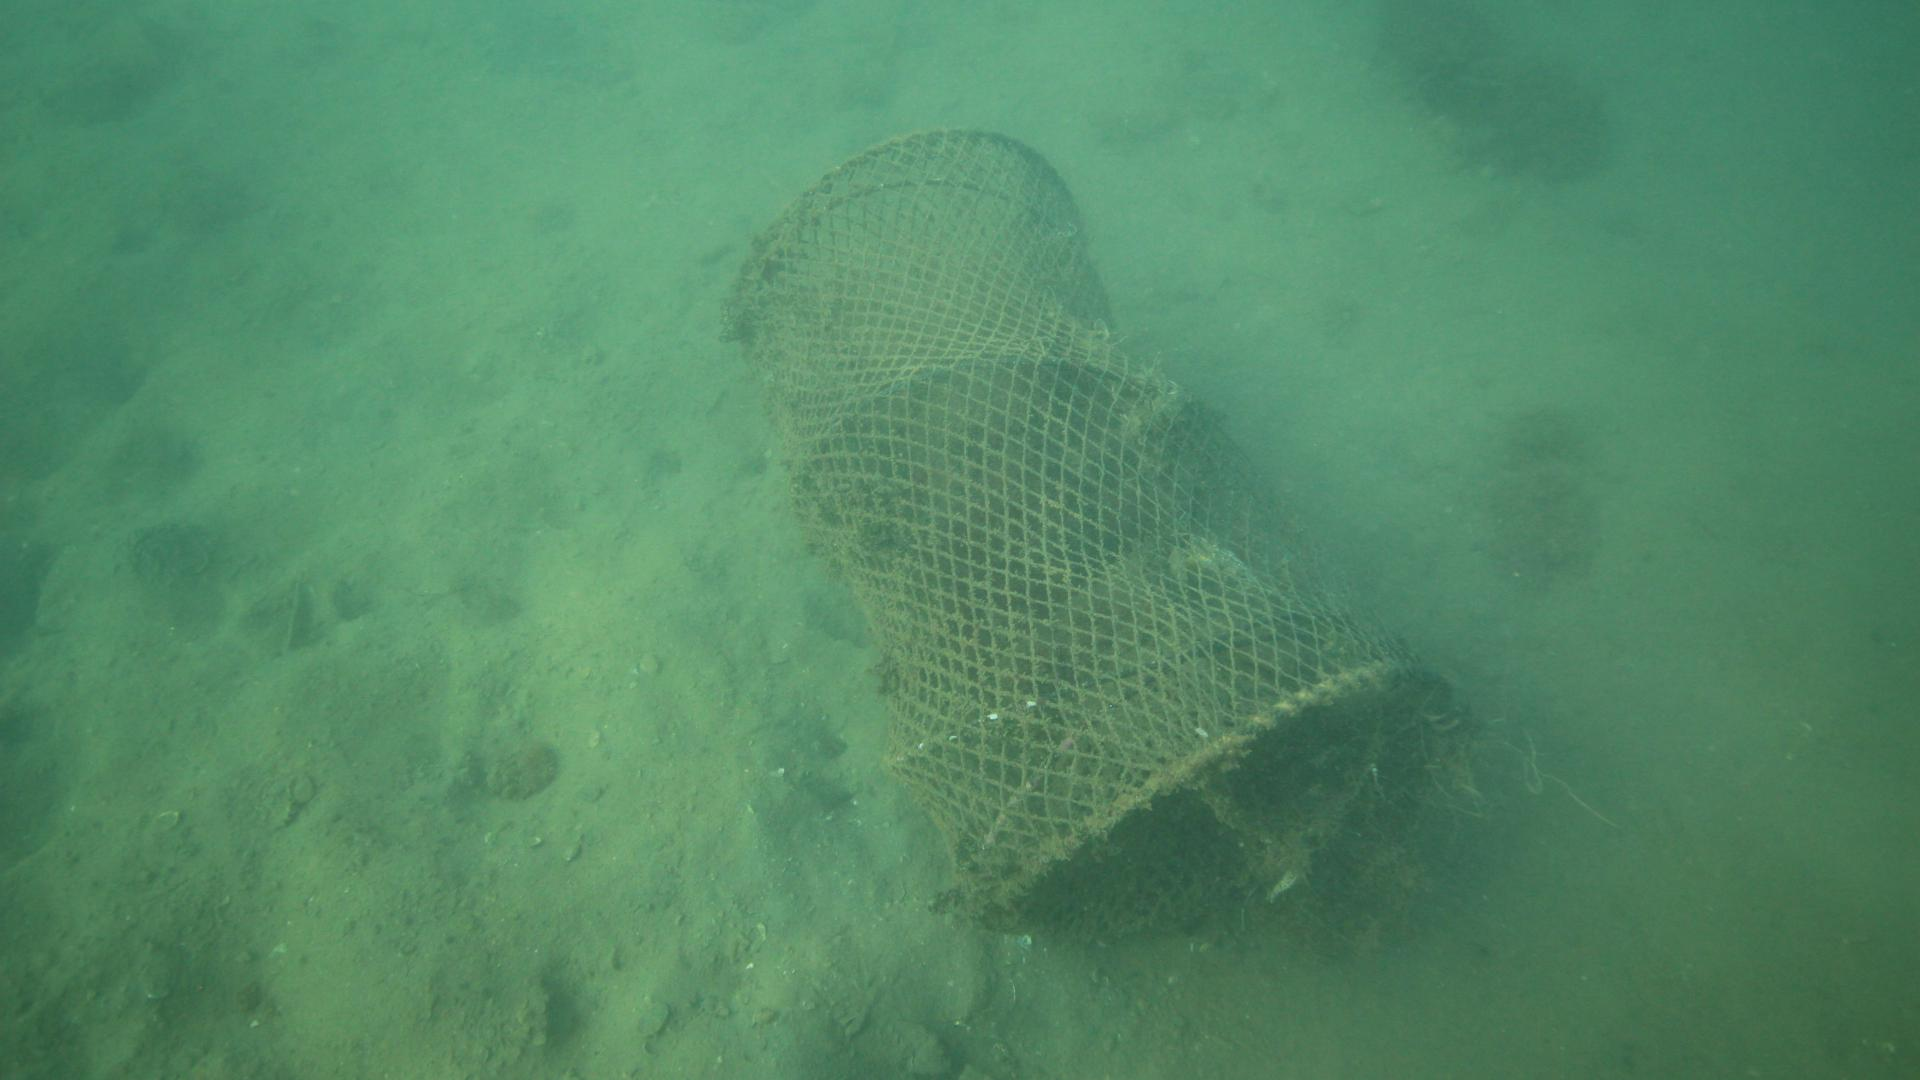spring fish trap: (719, 125, 1452, 945)
